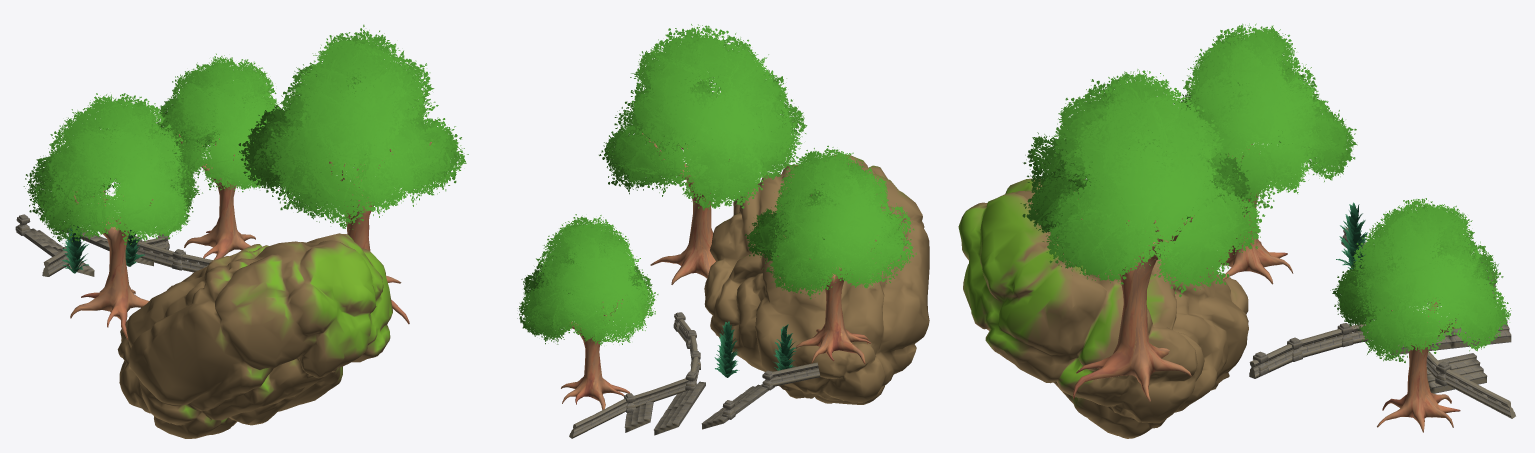
File: cell_x1_z1_render.gltf
3 renders of one model, left to right at view 1: azimuth 30°, elevation 25°; view 2: azimuth 150°, elevation 25°; view 3: azimuth 270°, elevation 25°, orthographic. The views are drawn at different scales.
Visible parts, largest first — view 1: SM_ENV_cliff_castle_01_LOD0.037, SM_ENV_tree_castle_01_LOD0.045, SM_ENV_tree_castle_01_LOD0.014, SM_ENV_tree_castle_01_LOD0.032, SM_ENV_tree_castle_02_LOD0.002, SM_MOD_railing_02_straight_castle_LOD0.200; view 2: SM_ENV_tree_castle_01_LOD0.045, SM_ENV_cliff_castle_01_LOD0.037, SM_ENV_tree_castle_01_LOD0.014, SM_ENV_tree_castle_01_LOD0.032, SM_ENV_tree_castle_02_LOD0.028, SM_MOD_railing_02_stairs_straight_castle_LOD0.002, SM_MOD_railing_02_straight_castle_LOD0.180, SM_MOD_railing_02_stairs_straight_castle_LOD0.004, SM_MOD_stairs_straight_02_castle_LOD0.054, SM_ENV_tree_castle_02_LOD0.002, SM_MOD_stairs_straight_02_castle_LOD0.151, SM_MOD_stairs_straight_02_castle_LOD0.091 (+1 smaller); view 3: SM_ENV_tree_castle_01_LOD0.045, SM_ENV_cliff_castle_01_LOD0.037, SM_ENV_tree_castle_01_LOD0.032, SM_ENV_tree_castle_01_LOD0.014, SM_MOD_railing_02_stairs_straight_castle_LOD0.002, SM_MOD_stairs_straight_02_castle_LOD0.151, SM_ENV_tree_castle_02_LOD0.002, SM_MOD_railing_02_straight_castle_LOD0.056, SM_MOD_railing_02_straight_castle_LOD0.231, SM_MOD_stairs_straight_02_castle_LOD0.054.
Part boxes in pixels (x1=…): SM_ENV_cliff_castle_01_LOD0.037: x1=117, y1=233, x2=392, y2=438; SM_ENV_tree_castle_01_LOD0.045: x1=238, y1=24, x2=468, y2=324; SM_ENV_tree_castle_01_LOD0.014: x1=23, y1=93, x2=202, y2=339; SM_ENV_tree_castle_01_LOD0.032: x1=156, y1=53, x2=283, y2=259; SM_ENV_tree_castle_02_LOD0.002: x1=62, y1=225, x2=88, y2=273; SM_MOD_railing_02_straight_castle_LOD0.200: x1=136, y1=241, x2=175, y2=267; SM_ENV_tree_castle_01_LOD0.045: x1=599, y1=24, x2=807, y2=284; SM_ENV_cliff_castle_01_LOD0.037: x1=704, y1=155, x2=929, y2=404; SM_ENV_tree_castle_01_LOD0.014: x1=744, y1=145, x2=916, y2=364; SM_ENV_tree_castle_01_LOD0.032: x1=517, y1=214, x2=658, y2=409; SM_ENV_tree_castle_02_LOD0.028: x1=714, y1=321, x2=739, y2=377; SM_MOD_railing_02_stairs_straight_castle_LOD0.002: x1=569, y1=398, x2=627, y2=438; SM_MOD_railing_02_straight_castle_LOD0.180: x1=770, y1=362, x2=820, y2=386; SM_MOD_railing_02_stairs_straight_castle_LOD0.004: x1=633, y1=378, x2=688, y2=407; SM_MOD_stairs_straight_02_castle_LOD0.054: x1=654, y1=402, x2=692, y2=435; SM_ENV_tree_castle_02_LOD0.002: x1=773, y1=324, x2=796, y2=370; SM_MOD_stairs_straight_02_castle_LOD0.151: x1=624, y1=402, x2=653, y2=432; SM_MOD_stairs_straight_02_castle_LOD0.091: x1=701, y1=400, x2=749, y2=429; SM_ENV_tree_castle_01_LOD0.045: x1=1020, y1=69, x2=1265, y2=401; SM_ENV_cliff_castle_01_LOD0.037: x1=958, y1=178, x2=1248, y2=438; SM_ENV_tree_castle_01_LOD0.032: x1=1330, y1=198, x2=1511, y2=432; SM_ENV_tree_castle_01_LOD0.014: x1=1173, y1=23, x2=1357, y2=284; SM_MOD_railing_02_stairs_straight_castle_LOD0.002: x1=1445, y1=369, x2=1515, y2=418; SM_MOD_stairs_straight_02_castle_LOD0.151: x1=1426, y1=353, x2=1487, y2=393; SM_ENV_tree_castle_02_LOD0.002: x1=1336, y1=202, x2=1367, y2=268; SM_MOD_railing_02_straight_castle_LOD0.056: x1=1298, y1=329, x2=1343, y2=357; SM_MOD_railing_02_straight_castle_LOD0.231: x1=1249, y1=344, x2=1293, y2=378; SM_MOD_stairs_straight_02_castle_LOD0.054: x1=1447, y1=314, x2=1511, y2=348.
Bounding box in the file's own units: 31.87 × 30.34 × 36.26.
Materials: 5 (4 with a texture image).
